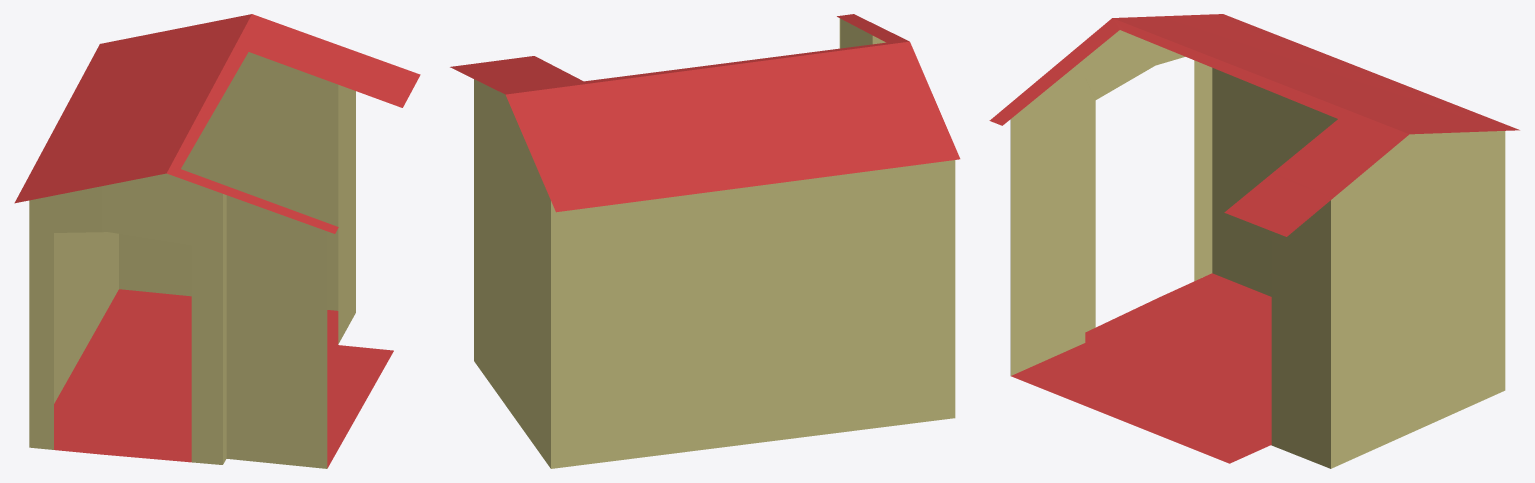
3 renders of one model, left to right at view 1: azimuth 30°, elevation 25°; view 2: azimuth 150°, elevation 25°; view 3: azimuth 270°, elevation 25°, orthographic. The views are drawn at different scales.
Visible parts, largest first — view 1: group_5, group_3, group_6; view 2: group_5, group_3; view 3: group_5, group_6, group_3, group_4.
Boxes of the visible parts, <box> form: group_5: <box>29,52,355,468</box>; group_3: <box>14,14,420,233</box>; group_6: <box>54,289,393,468</box>; group_5: <box>474,18,955,468</box>; group_3: <box>450,14,960,212</box>; group_5: <box>1010,30,1505,468</box>; group_6: <box>1011,273,1271,463</box>; group_3: <box>989,14,1519,236</box>; group_4: <box>993,119,1387,230</box>.
Bounding box in the file's own units: 14.07 × 14.16 × 8.85.
